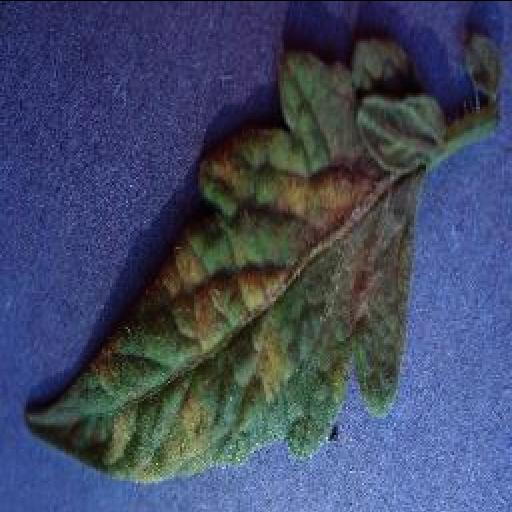disease_tomato: (20, 36, 444, 484)
